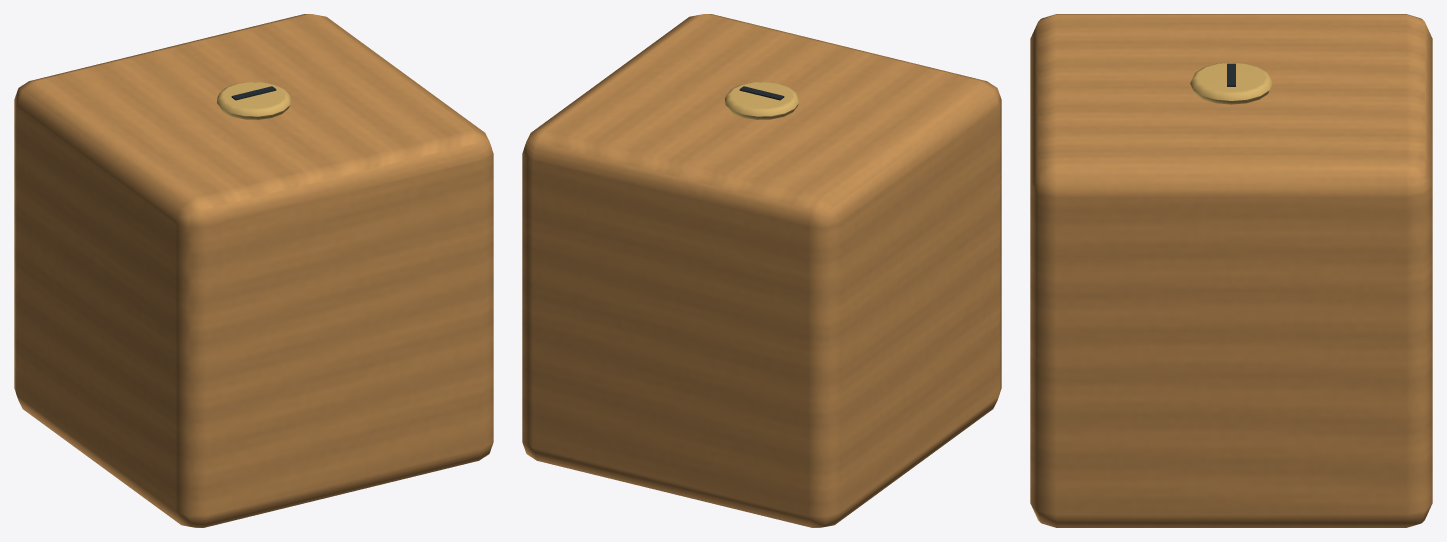
File: border_corner.glb
The picture shows the model from 3 angles, left to right: view 1: azimuth 30°, elevation 25°; view 2: azimuth 150°, elevation 25°; view 3: azimuth 270°, elevation 25°; orthographic projection. The views are drawn at different scales.
Visible parts, largest first — view 1: Corner post, Brass screw; view 2: Corner post, Brass screw; view 3: Corner post, Brass screw.
Part boxes in pixels (bbox=[...]): Corner post: bbox=[14, 14, 493, 527]; Brass screw: bbox=[217, 82, 290, 119]; Corner post: bbox=[522, 14, 1001, 527]; Brass screw: bbox=[725, 82, 798, 119]; Corner post: bbox=[1030, 14, 1432, 527]; Brass screw: bbox=[1190, 62, 1272, 104].
Bounding box in the file's own units: 0.7 × 0.7275 × 0.7.
Materials: 3 (1 with a texture image).
